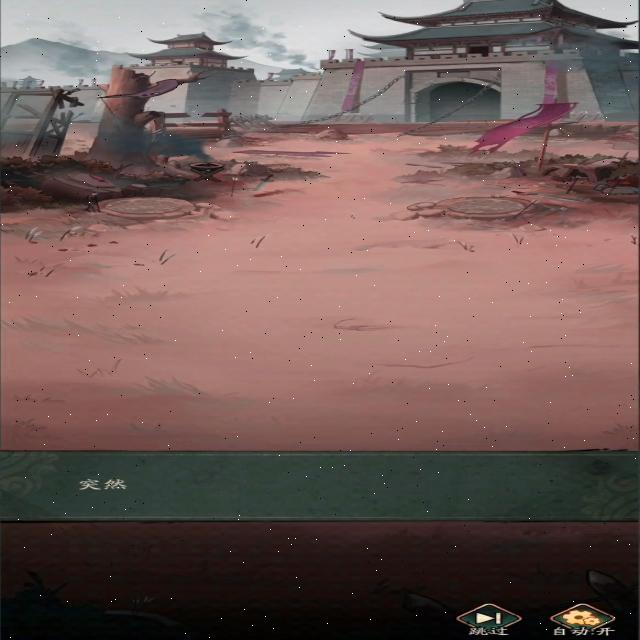system-auto: (546, 604, 619, 637)
system-skip: (452, 602, 525, 637)
